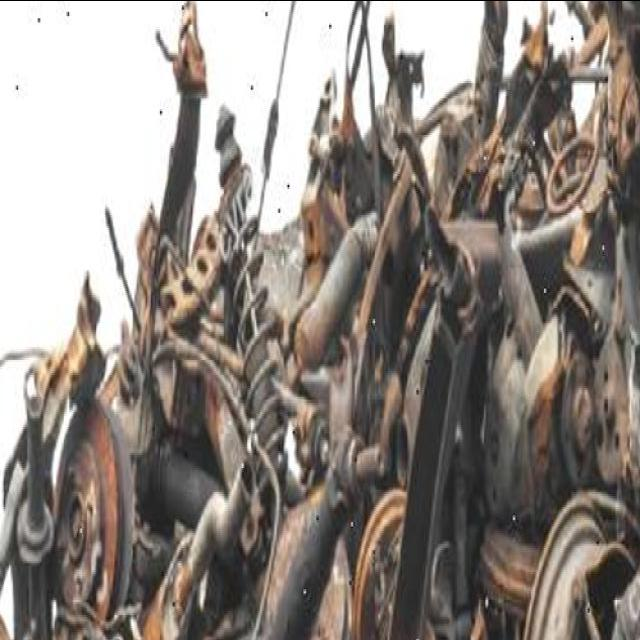shock absorber: (215, 101, 289, 532)
